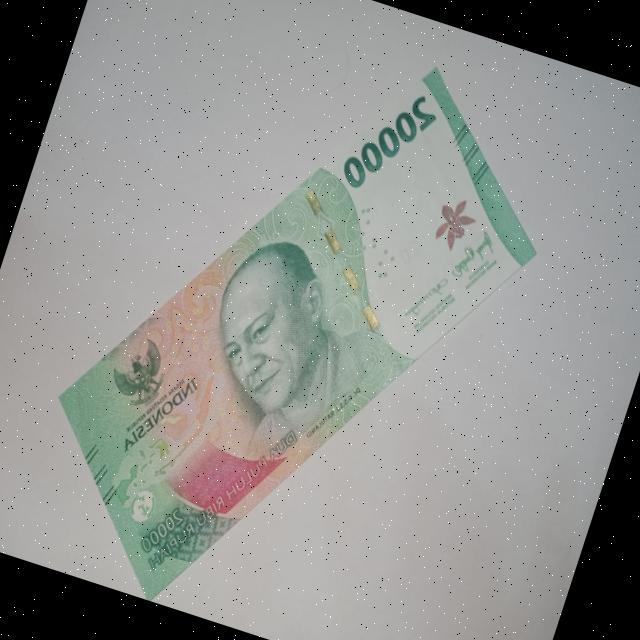20K: (5, 0, 585, 640)
